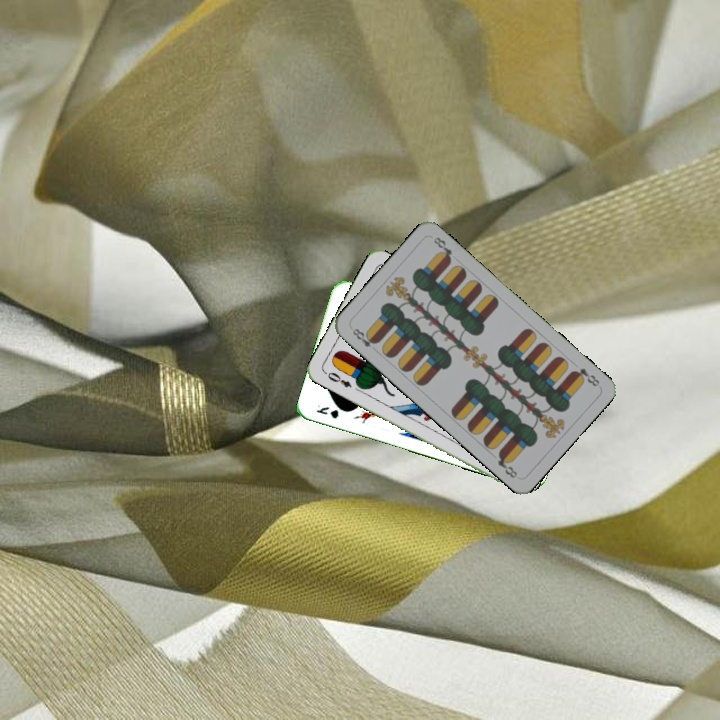E8: (568, 364, 602, 389), (348, 324, 380, 350)
EO: (320, 368, 354, 390)
GK: (312, 401, 341, 421)
